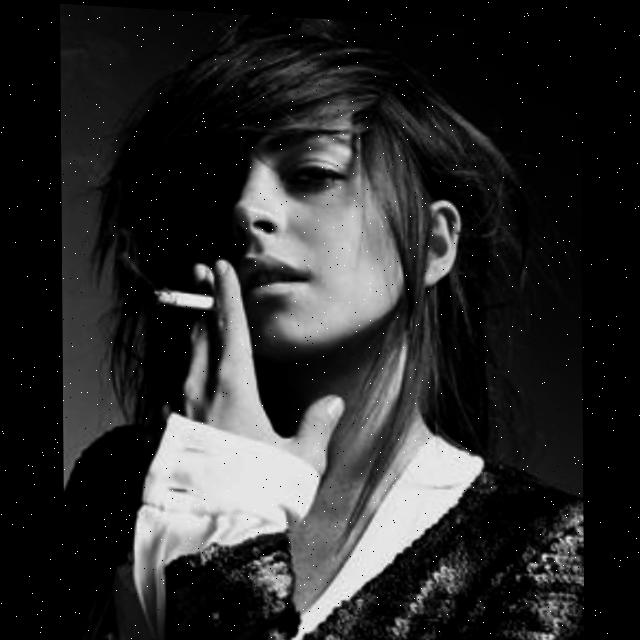cigarette: (154, 288, 216, 309)
